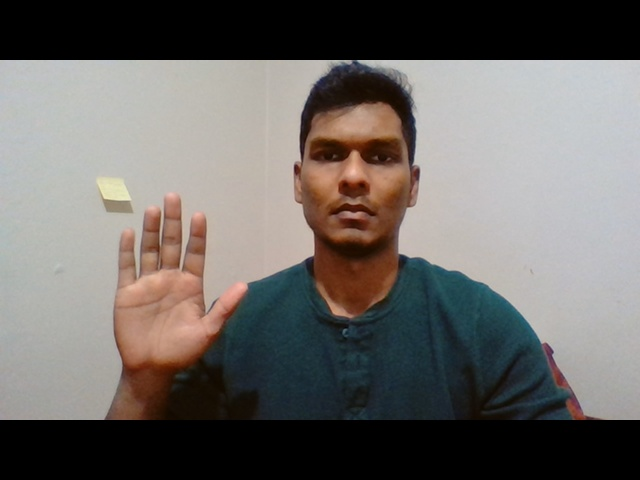Hello: (111, 190, 255, 376)
